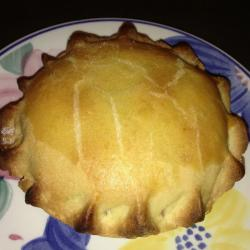apple_pie: (4, 27, 248, 241)
